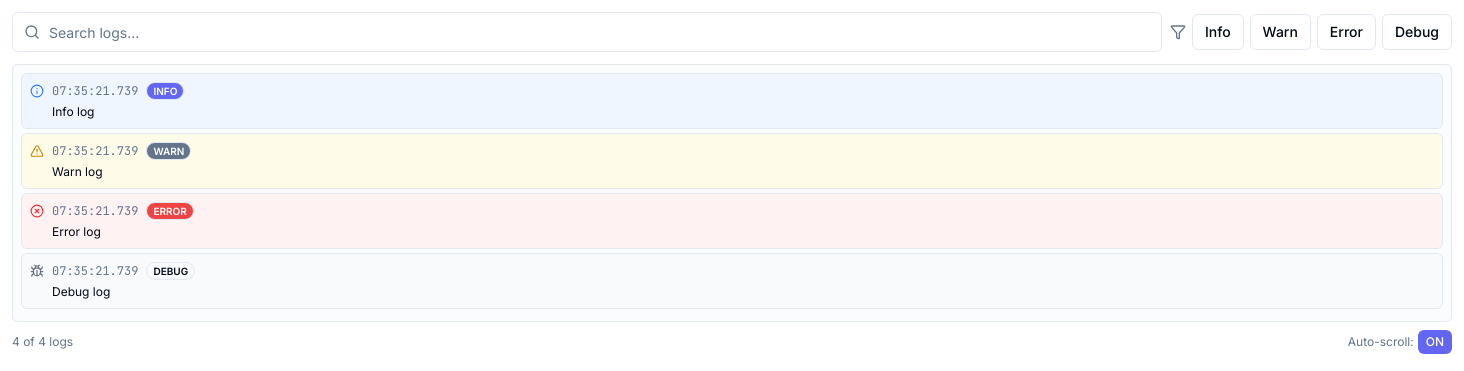
Scenario: LogViewer › should allow multiple level filters
Note: Select info and warn
Click the button "info" at {"x": 1218, "y": 32}, box x1=1192 y1=14 x2=1244 y2=50
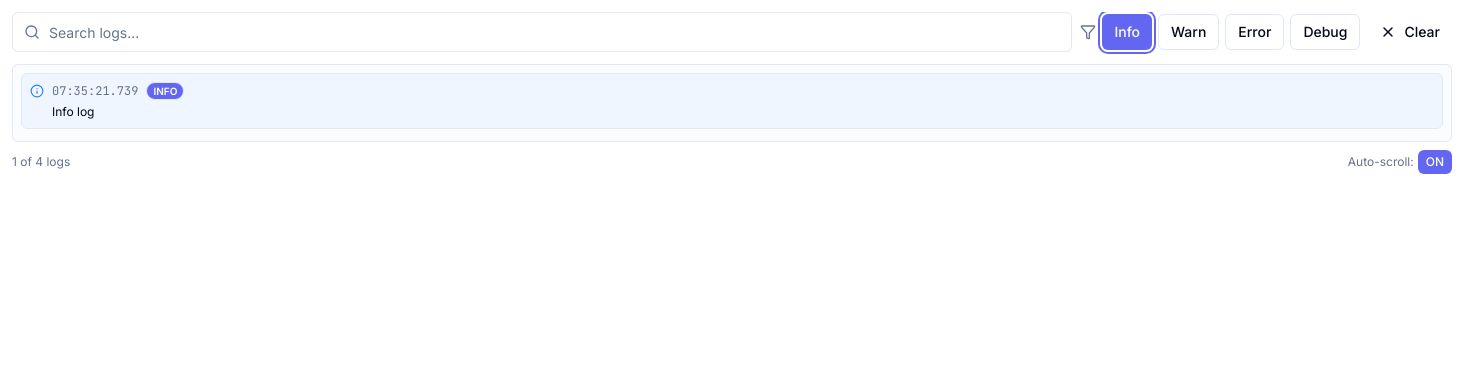
Click the button "warn" at {"x": 1189, "y": 32}, box x1=1158 y1=14 x2=1219 y2=50
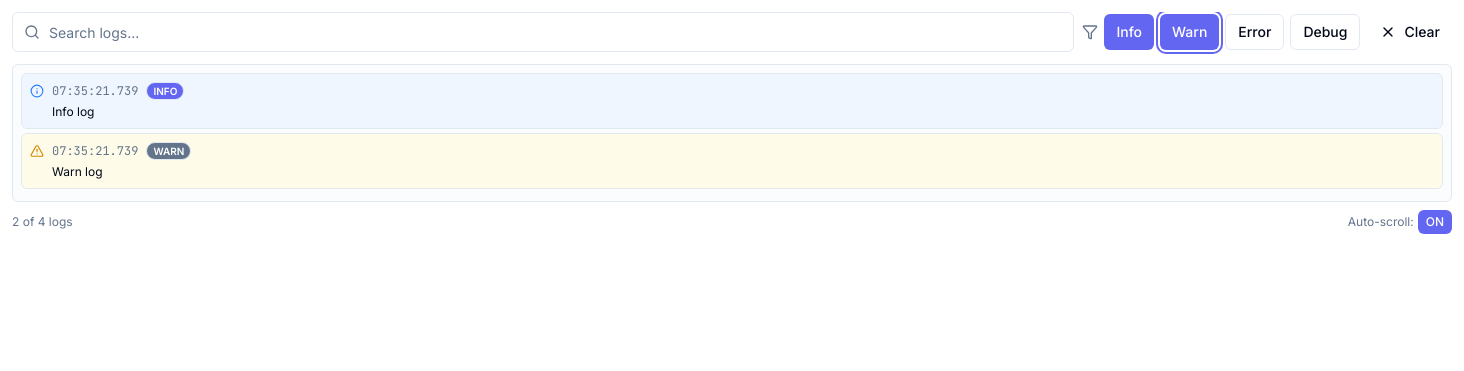
Expected: the text "Info log" is shown, x1=52 y1=104 x2=94 y2=119
Expected: the text "Warn log" is shown, x1=52 y1=164 x2=103 y2=179
Expected: the text "2 of 4 logs" is shown, x1=12 y1=214 x2=73 y2=230
